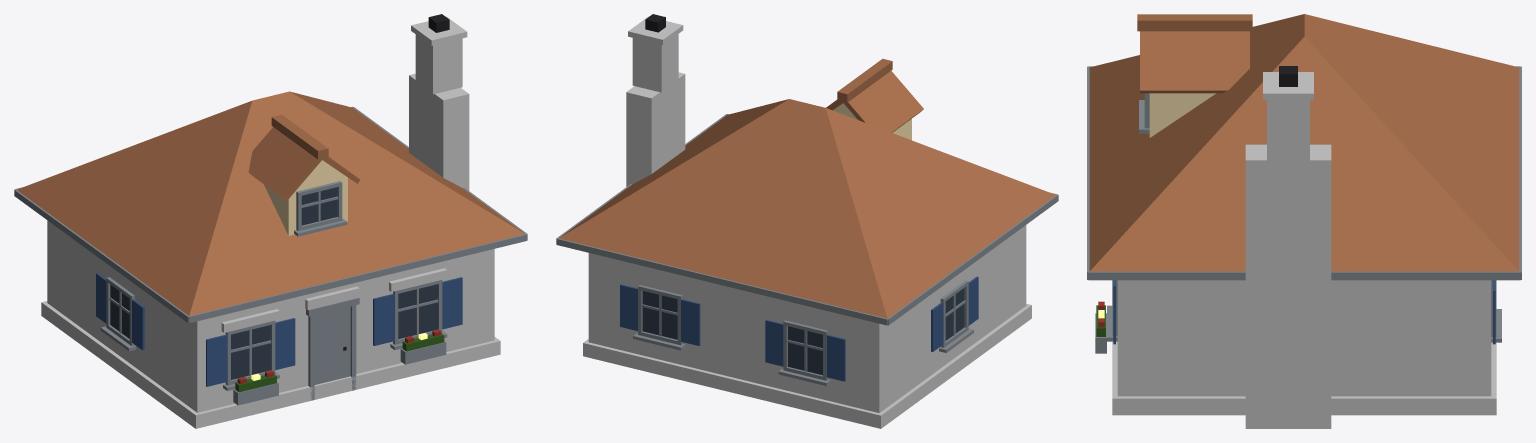
The model's file is stone_cottage.gltf.
3 renders of one model, left to right at view 1: azimuth 30°, elevation 25°; view 2: azimuth 150°, elevation 25°; view 3: azimuth 270°, elevation 25°, orthographic. The views are drawn at different scales.
Parts seen in each view (by area): view 1: stone_cottage; view 2: stone_cottage; view 3: stone_cottage.
Boxes of the visible parts, left/top/right/bottom form: stone_cottage: left=14, top=14, right=527, bottom=428; stone_cottage: left=556, top=14, right=1058, bottom=428; stone_cottage: left=1087, top=14, right=1521, bottom=428.
Bounding box in the file's own units: 9.4 × 7.25 × 8.14.
